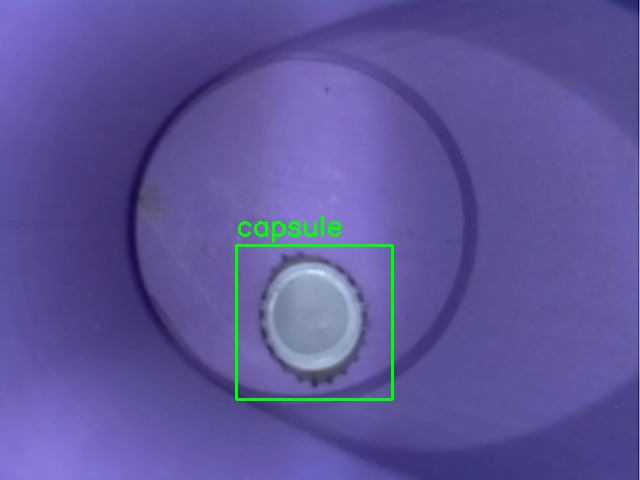capsule: (236, 245, 392, 399)
